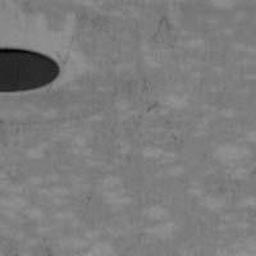Punching: (0, 47, 60, 95)
